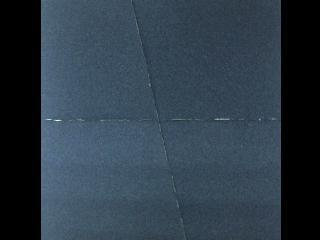crack: (128, 0, 192, 240), (42, 110, 282, 131)
